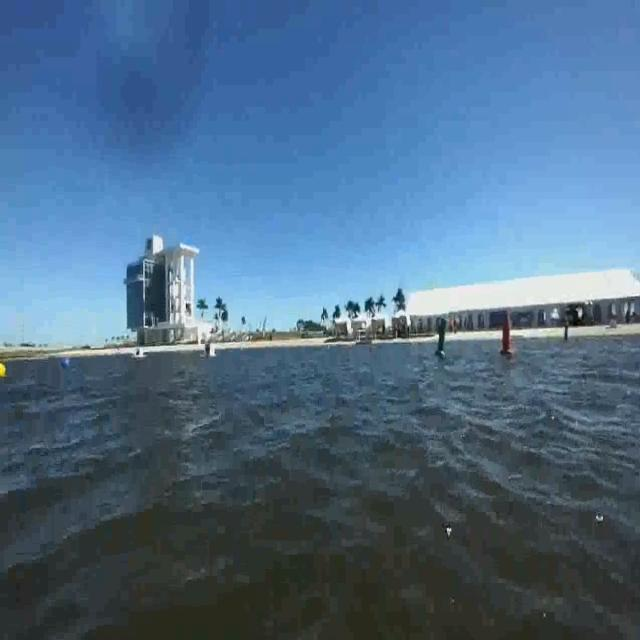green-column-buoy: (433, 306, 453, 363)
red-column-buoy: (497, 296, 517, 367)
yellow-buoy: (0, 360, 7, 378)
